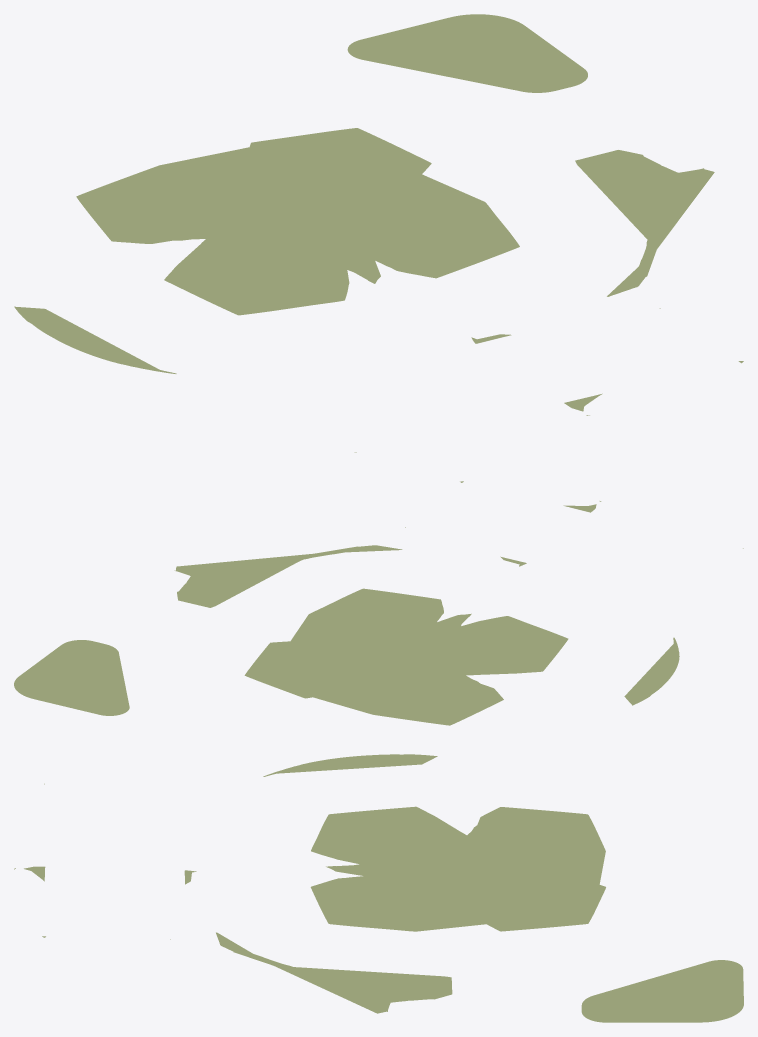
File: b37c1868-e067-4259-841d-8e529d342dae.glb
3 renders of one model, top to bottom at view 1: azimuth 30°, elevation 25°; view 2: azimuth 150°, elevation 25°; view 3: azimuth 270°, elevation 25°, orthographic. The views are drawn at different scales.
Parts seen in each view (by area): view 1: 673; view 2: 673; view 3: 673.
Boxes of the visible parts, box(x1,y1,x2,y2) form: 673: box(14, 14, 743, 452); 673: box(14, 481, 743, 725); 673: box(14, 754, 743, 1022).
Bounding box in the file's own units: 263 × 7.01 × 306.
